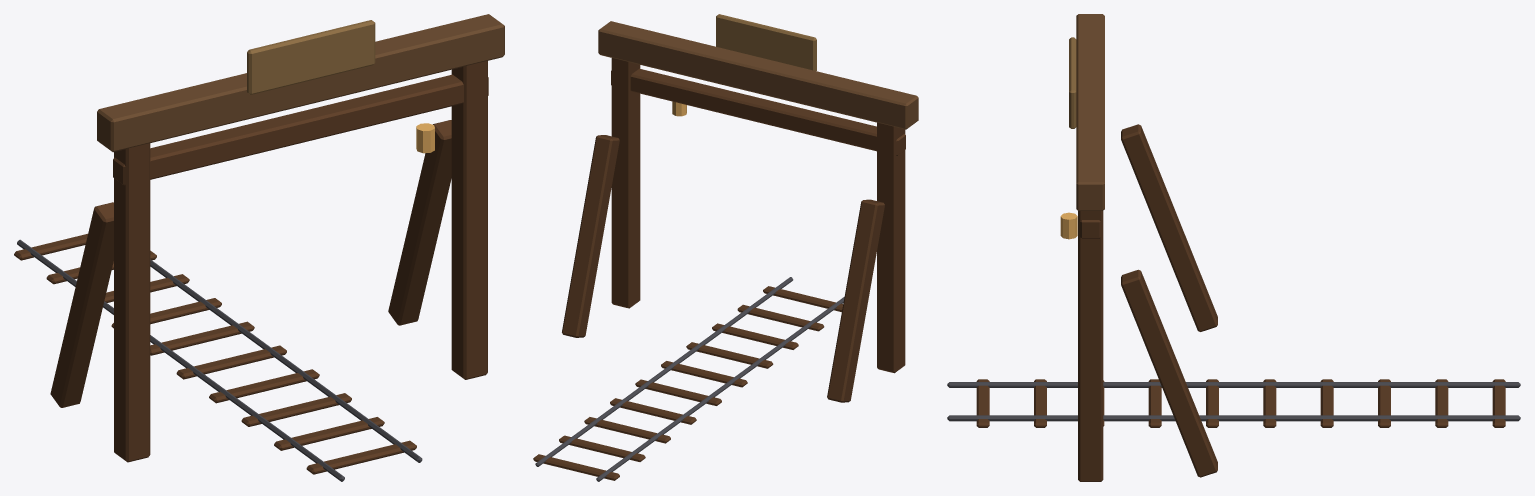
The model's file is gantry.glb.
3 renders of one model, left to right at view 1: azimuth 30°, elevation 25°; view 2: azimuth 150°, elevation 25°; view 3: azimuth 270°, elevation 25°, orthographic. The views are drawn at different scales.
Parts seen in each view (by area): view 1: Cube.004, Cube, Cube.002, Cube.005, Cube.001, Cube.003, Cube.006, Cube.008, Cube.007, Cube.009, Cube.012, Cube.013 (+6 smaller); view 2: Cube.004, Cube.002, Cube, Cube.005, Cube.001, Cube.003, Cube.006, Cube.008, Cube.007, Cube.010, Cube.013, Cube.011 (+7 smaller); view 3: Cube.002, Cube.004, Cube.001, Cube.003, Cube.008, Cube.007, Cube.006.
Boxes of the visible parts, box(x1,y1,x2,y2) form: Cube.004: box(97, 14, 504, 152); Cube: box(114, 143, 150, 462); Cube.002: box(451, 61, 487, 379); Cube.005: box(113, 74, 488, 185); Cube.001: box(50, 202, 113, 407); Cube.003: box(388, 120, 451, 325); Cube.006: box(247, 20, 375, 94); Cube.008: box(150, 259, 422, 462); Cube.007: box(17, 239, 344, 481); Cube.009: box(306, 440, 416, 474); Cube.012: box(209, 369, 319, 403); Cube.013: box(176, 345, 286, 379); Cube.004: box(598, 21, 918, 129); Cube.002: box(611, 58, 640, 308); Cube: box(877, 122, 905, 373); Cube.005: box(611, 68, 905, 155); Cube.001: box(827, 199, 884, 402); Cube.003: box(562, 135, 619, 337); Cube.006: box(716, 14, 816, 70); Cube.008: box(535, 277, 793, 466); Cube.007: box(596, 297, 844, 481); Cube.010: box(737, 304, 824, 331); Cube.013: box(661, 361, 747, 387); Cube.011: box(712, 323, 798, 349); Cube.002: box(1078, 211, 1103, 481); Cube.004: box(1076, 14, 1104, 210); Cube.001: box(1121, 124, 1217, 331); Cube.003: box(1121, 269, 1217, 477); Cube.008: box(947, 415, 1520, 421); Cube.007: box(947, 382, 1520, 387); Cube.006: box(1069, 37, 1076, 128).
Size of the model in its own units: 5.6 by 5.27 by 8.
